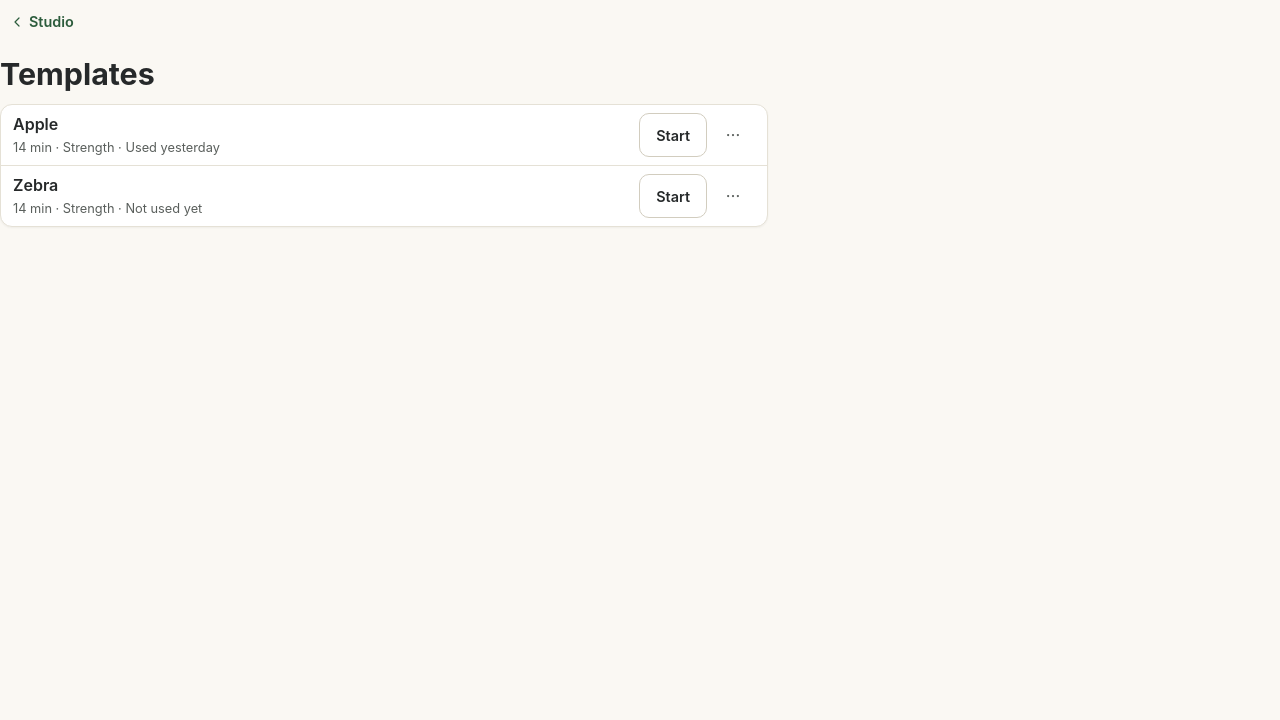
Scenario: Rename, Pin and Delete › Pin puts it first, said in words; Unpin takes it back
This screenshot has width=1280, height=720.
Click the button named "Zebra: more" at (733, 196), box x1=711 y1=174 x2=755 y2=218
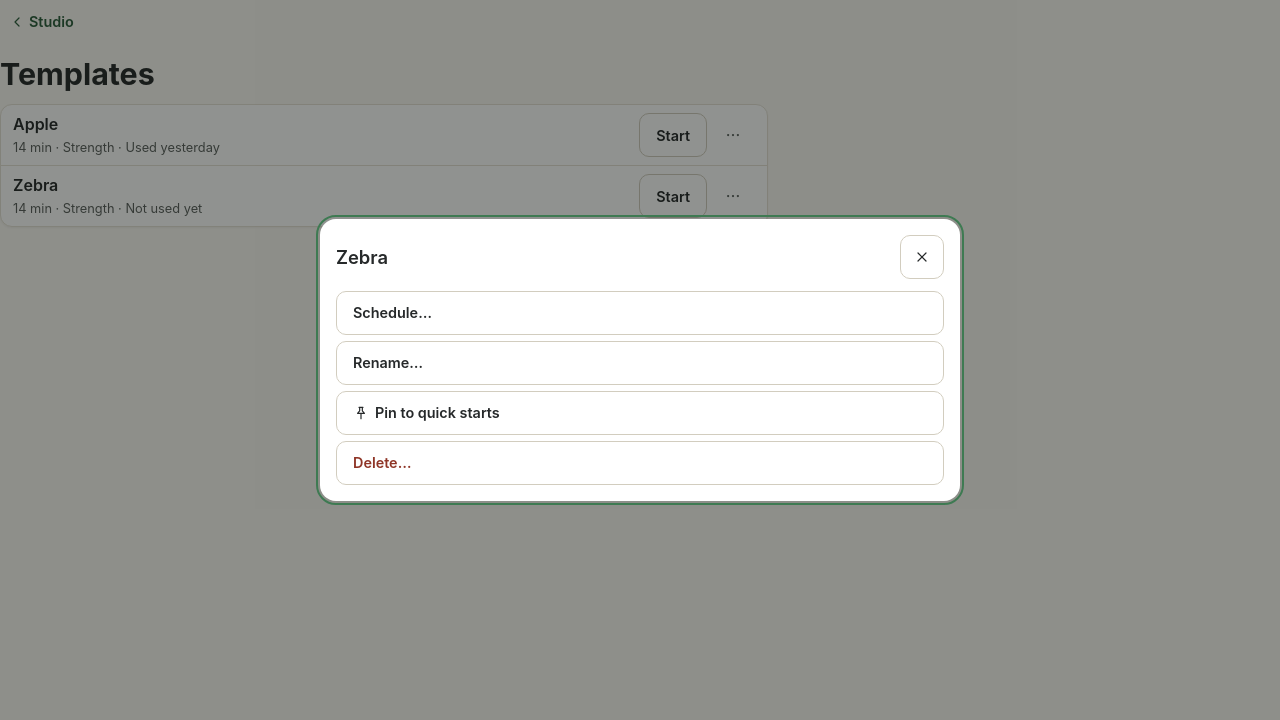
Click the button "Pin to quick starts" at (437, 413), box x1=336 y1=391 x2=944 y2=435
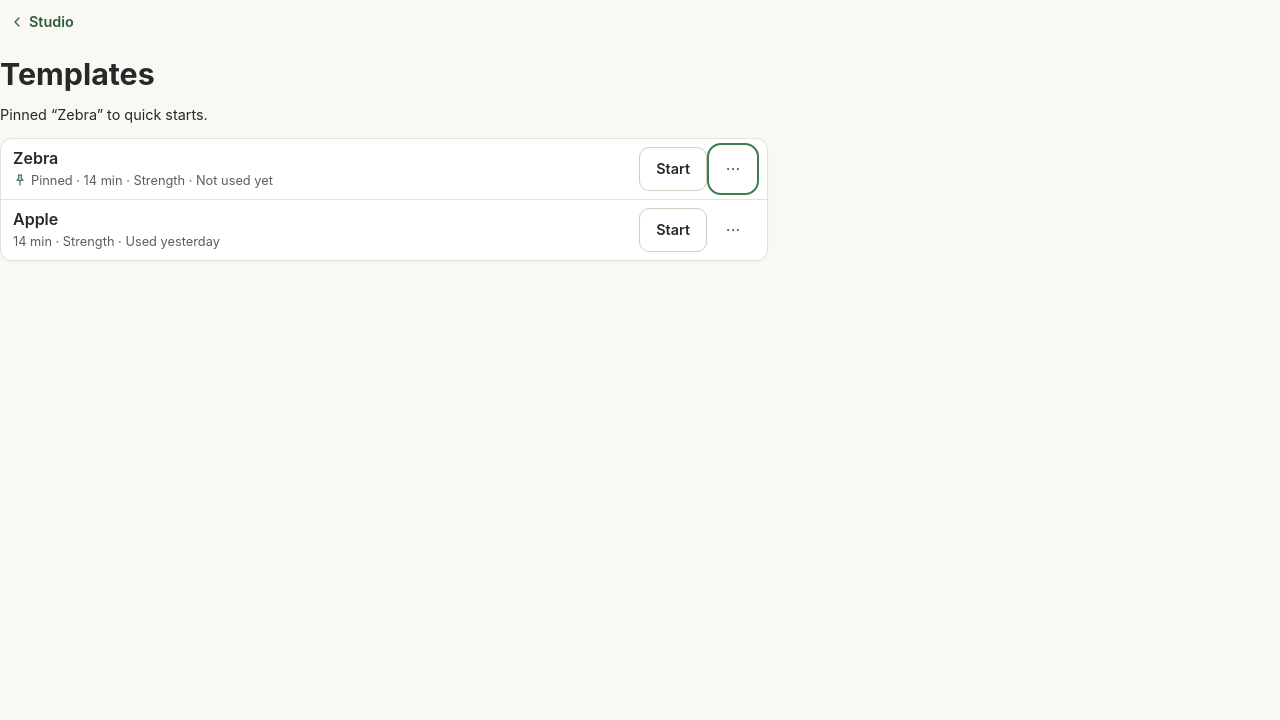
Expected: the list item with class "stu-tpl" shows "Pinned", x1=31 y1=173 x2=80 y2=188
Click the button named "Zebra: more" at (733, 169), box x1=711 y1=147 x2=755 y2=191
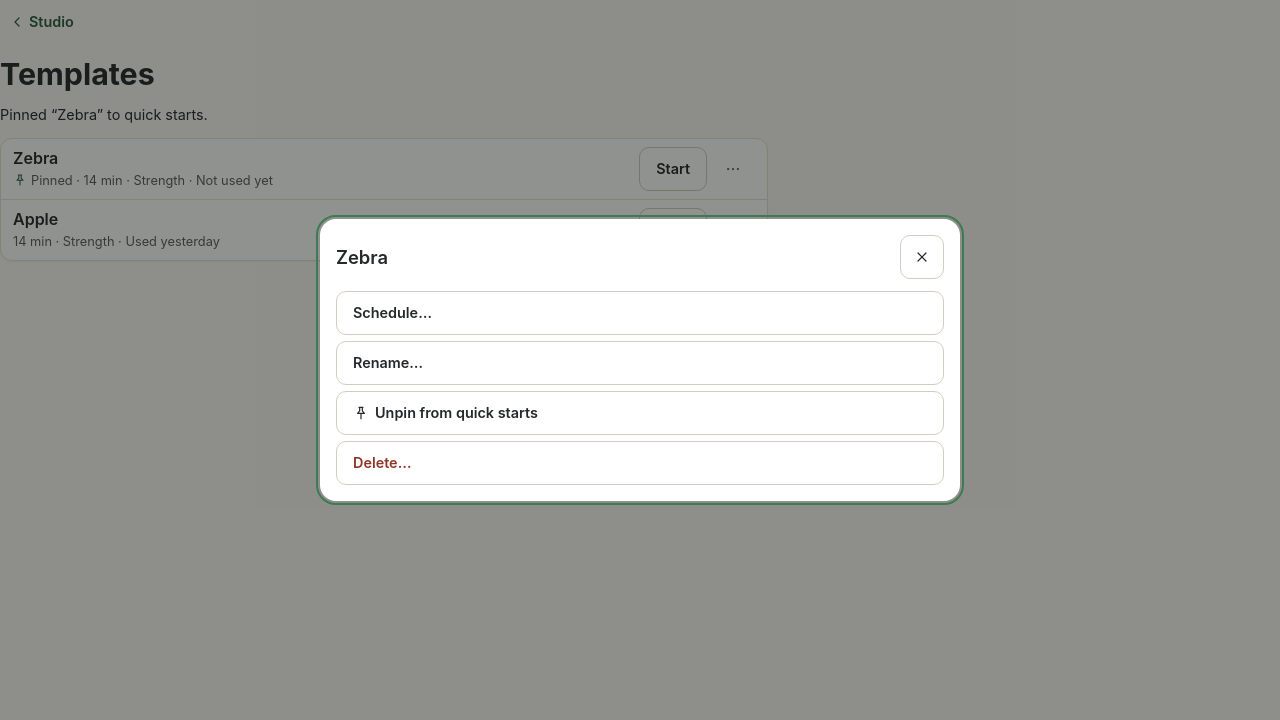
Click the button "Unpin from quick starts" at (456, 413), box x1=336 y1=391 x2=944 y2=435
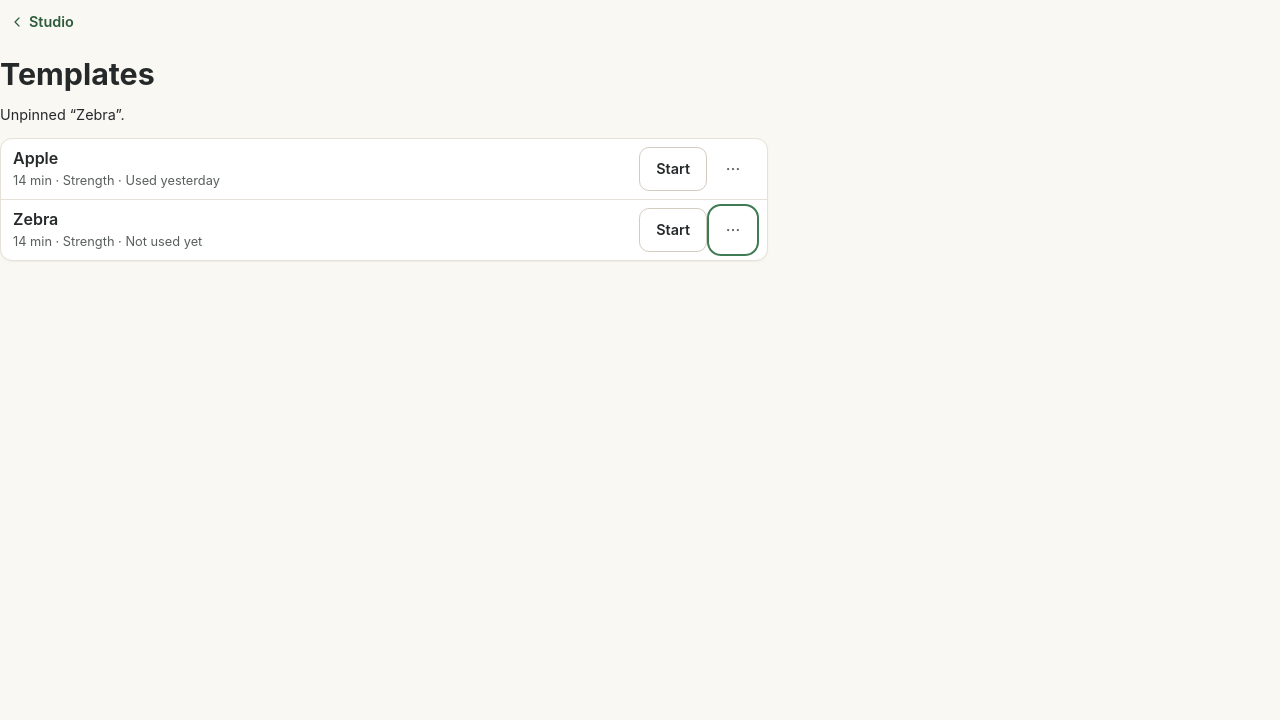
Expected: the element with class "stu-tpl" no longer shows "Pinned"
